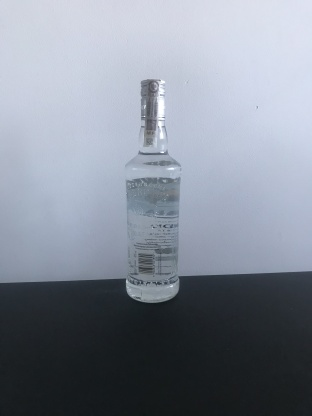nakretka: (138, 76, 167, 123)
